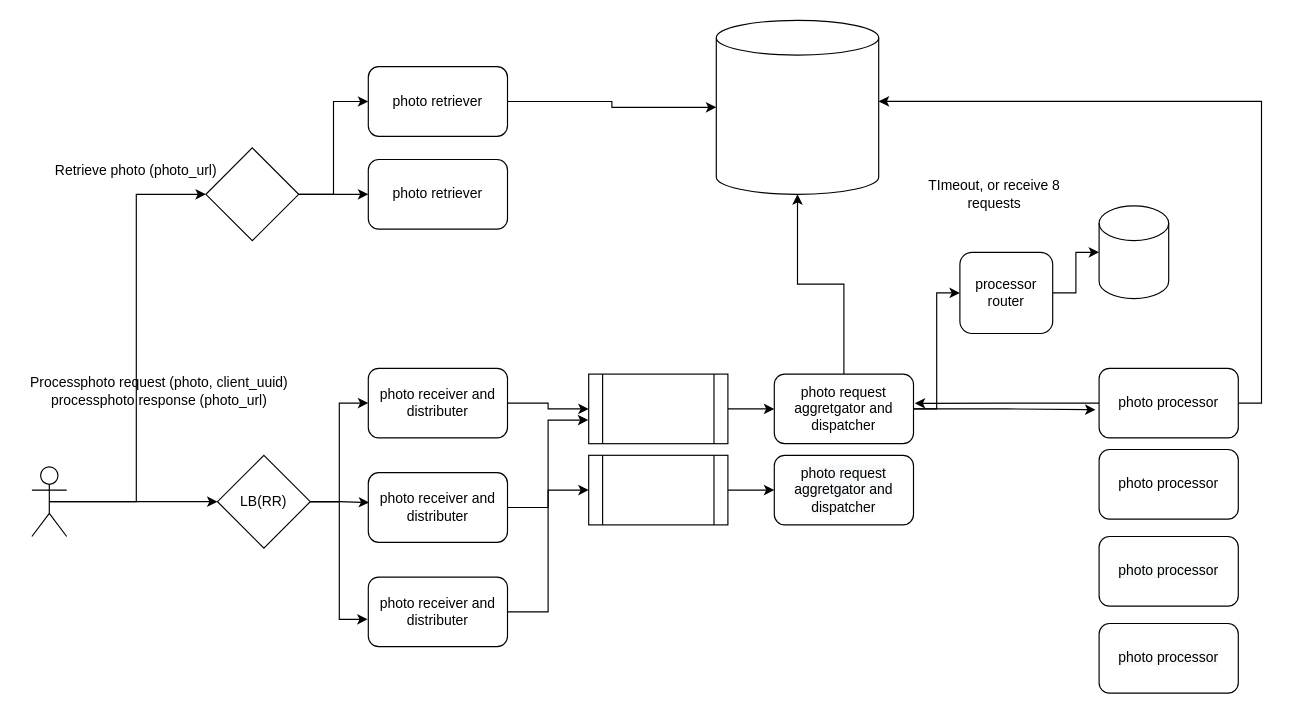
Some shapes in this 1291 by 720 pixel diagram are drawn without their labels. The centre of each missing label's shape, as x and y in pixels:
client: (x=49, y=501)
HDFS: (x=797, y=106)
LB: (x=252, y=194)
topic 1 (8-9 MB) 10 partitions: (x=658, y=489)
topic 1 (9-10MB) 10 partitions: (x=658, y=408)
worker status: (x=1133, y=252)
